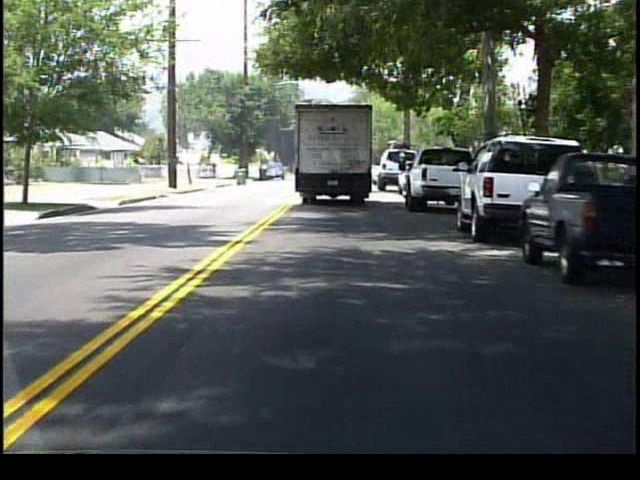person: (212, 162, 221, 183)
